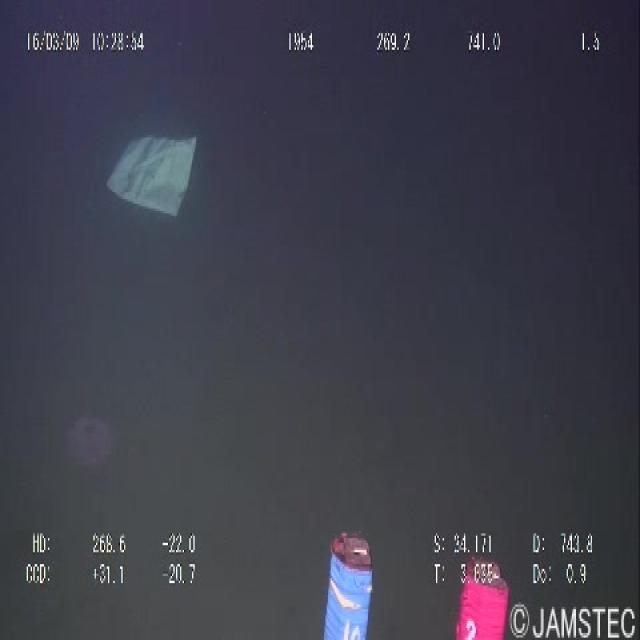plastic: (100, 121, 200, 225)
